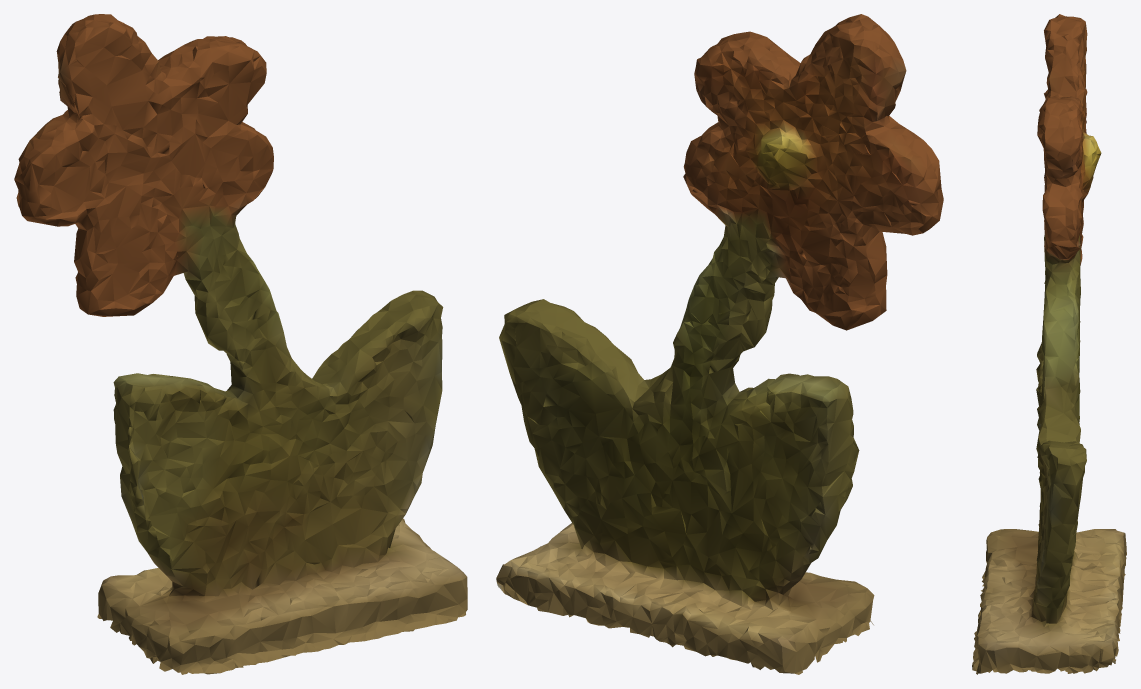
File: flower_low_poly.fbx
The picture shows the model from 3 angles, left to right: view 1: azimuth 30°, elevation 25°; view 2: azimuth 150°, elevation 25°; view 3: azimuth 270°, elevation 25°; orthographic projection. The views are drawn at different scales.
Parts seen in each view (by area): view 1: flower_obj; view 2: flower_obj; view 3: flower_obj.
Boxes of the visible parts, x1,y1,x2,y2 form: flower_obj: (14,14,467,674); flower_obj: (496,14,943,674); flower_obj: (972,14,1126,674).
Bounding box in the file's own units: 77.67 × 110 × 29.24.
